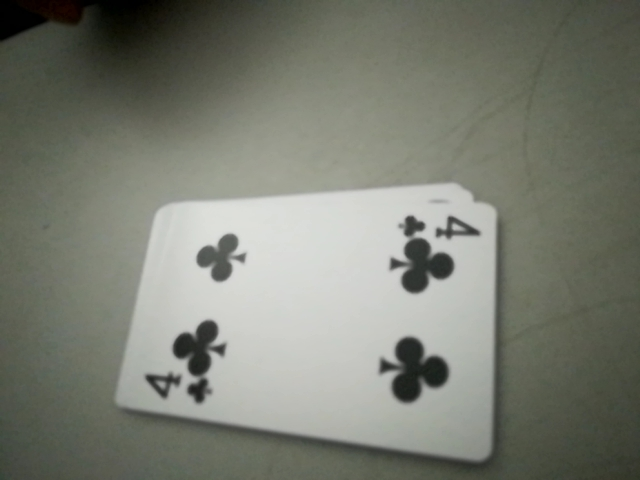mh 4: (398, 200, 490, 243), (136, 364, 218, 411)
